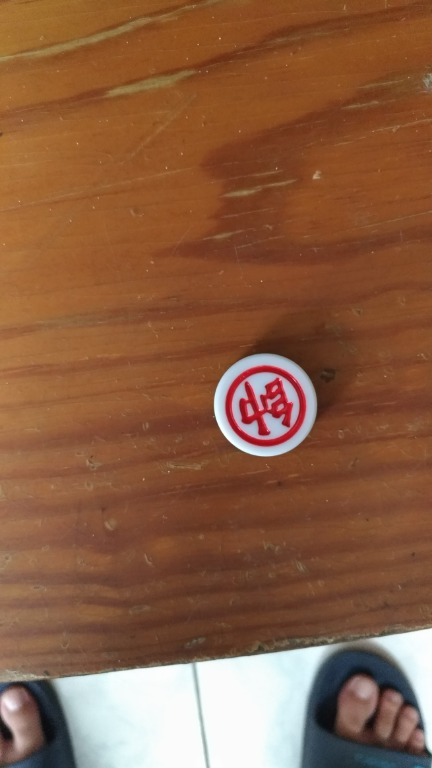r-king: (209, 351, 327, 460)
